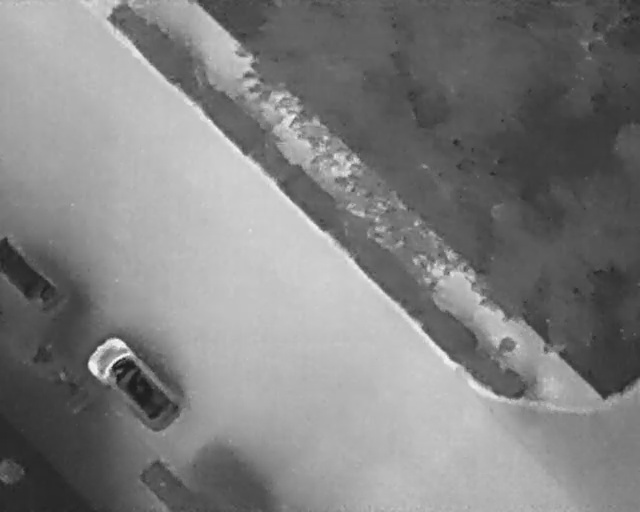Car: (79, 329, 191, 442), (0, 234, 65, 312)
